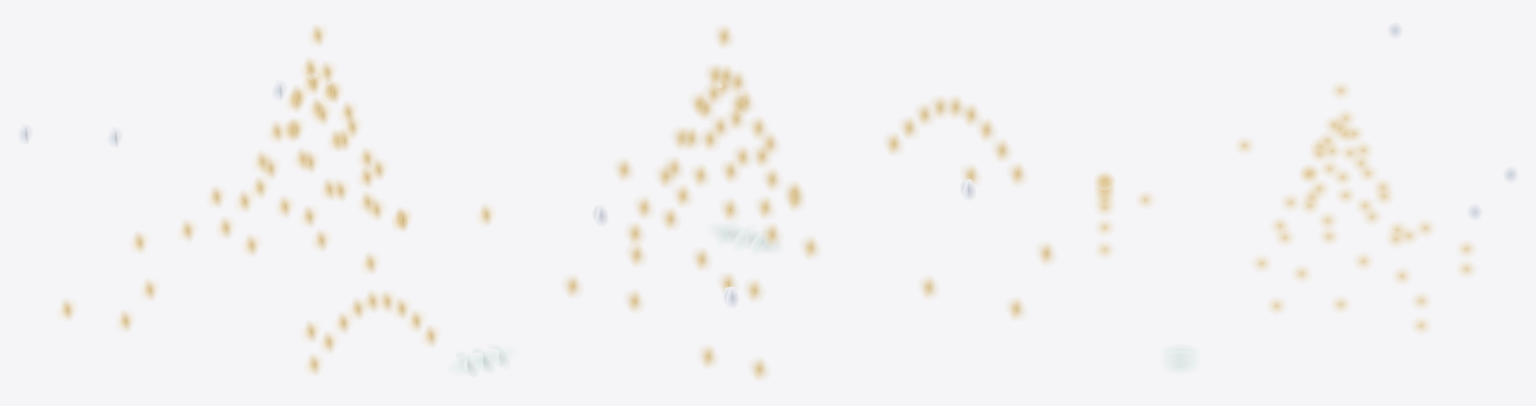
File: village-effects.glb
3 renders of one model, left to right at view 1: azimuth 30°, elevation 25°; view 2: azimuth 150°, elevation 25°; view 3: azimuth 270°, elevation 25°, orthographic. The views are drawn at different scales.
Size of the model in its own units: 1.45 by 1 by 1.48.
4 materials, 4 textured.
